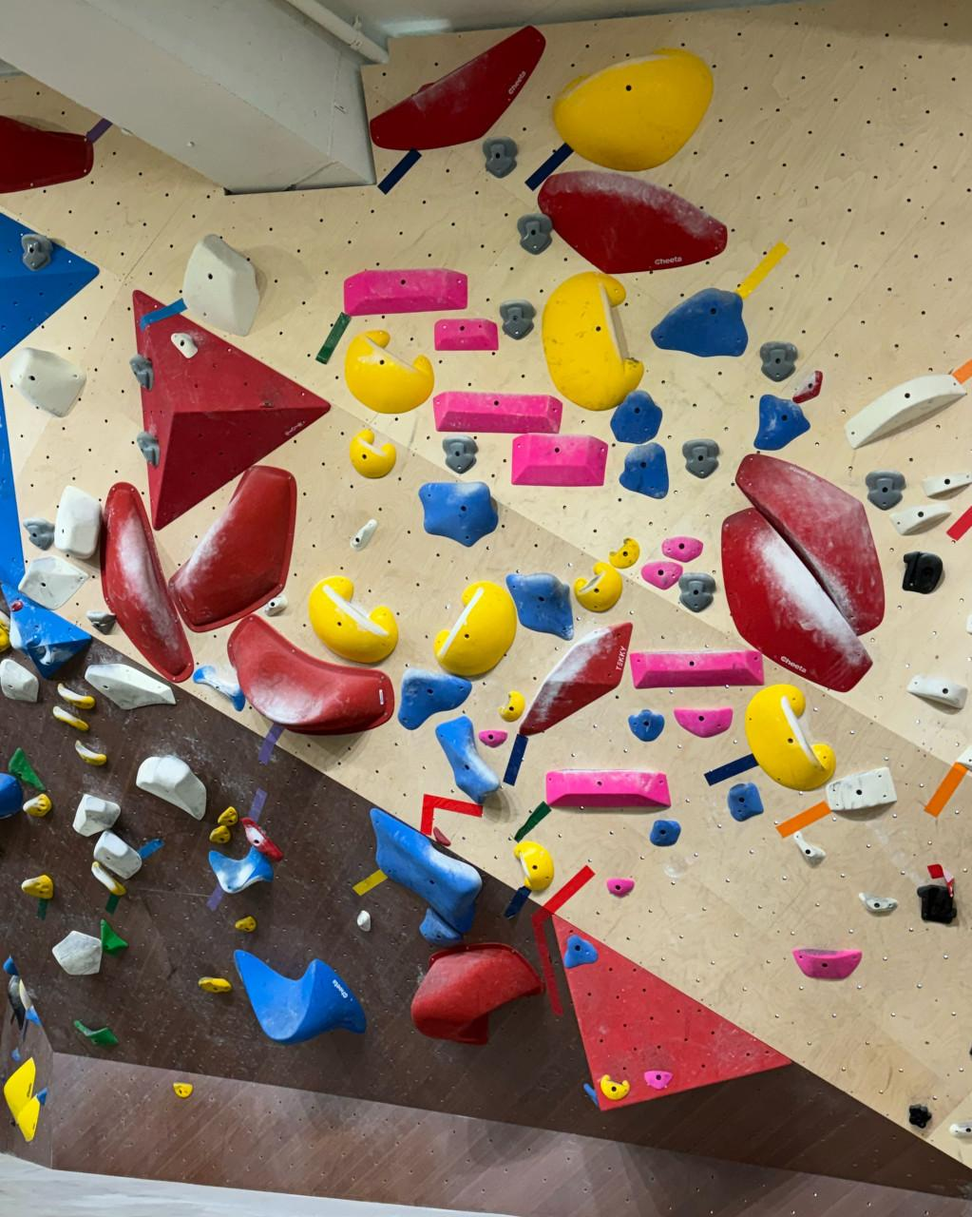hold: (722, 509, 871, 690), (737, 455, 883, 633), (371, 26, 544, 150), (169, 465, 296, 631), (553, 48, 713, 171), (538, 170, 727, 273), (229, 616, 393, 732), (101, 482, 192, 680), (370, 808, 483, 932), (543, 272, 643, 410), (411, 943, 543, 1044), (520, 623, 632, 735), (234, 950, 365, 1043), (746, 686, 835, 790), (846, 375, 965, 448), (434, 582, 517, 677), (182, 235, 259, 336), (309, 577, 397, 664), (344, 330, 433, 412), (652, 288, 748, 357), (436, 716, 503, 802), (343, 270, 467, 316), (433, 392, 562, 434), (631, 649, 763, 688), (10, 348, 85, 416), (420, 482, 497, 547), (512, 435, 607, 486), (397, 668, 471, 729), (545, 770, 670, 806), (506, 573, 573, 640), (137, 756, 204, 820), (86, 664, 175, 709), (19, 555, 88, 609), (53, 485, 101, 560), (827, 766, 896, 812), (4, 1057, 41, 1141), (753, 395, 810, 449), (209, 846, 272, 891), (619, 442, 668, 498), (611, 390, 662, 443), (574, 562, 622, 611), (194, 665, 245, 711), (94, 832, 141, 879), (52, 931, 102, 975), (350, 430, 395, 477), (792, 948, 861, 978), (908, 675, 965, 710), (515, 840, 554, 891), (890, 502, 950, 535), (73, 794, 120, 836), (436, 319, 498, 350), (902, 551, 943, 593), (675, 707, 731, 737), (0, 658, 38, 702), (242, 818, 281, 860), (420, 908, 463, 946), (9, 748, 44, 792), (866, 471, 905, 510), (917, 884, 956, 922), (761, 341, 797, 382), (499, 300, 535, 339), (683, 439, 719, 478), (679, 573, 715, 612), (482, 138, 517, 178), (517, 214, 551, 254), (728, 783, 763, 821), (923, 472, 971, 497), (641, 560, 682, 589), (21, 234, 54, 270), (74, 1020, 117, 1047), (93, 860, 125, 896), (629, 709, 663, 741), (793, 832, 825, 865), (0, 772, 22, 820), (566, 935, 597, 968), (792, 371, 822, 403), (23, 519, 53, 550), (662, 538, 702, 561), (609, 539, 639, 569), (101, 919, 126, 955), (58, 684, 93, 709), (53, 706, 88, 731), (136, 431, 160, 466), (130, 354, 153, 390), (257, 591, 287, 617), (859, 894, 897, 914), (600, 1074, 629, 1100), (499, 692, 524, 722), (75, 741, 105, 766), (21, 875, 53, 898), (350, 520, 375, 549), (171, 333, 198, 358), (23, 795, 51, 818), (87, 611, 115, 634), (653, 820, 680, 843), (909, 1104, 931, 1128), (479, 729, 507, 747), (606, 879, 634, 897), (644, 1071, 672, 1089), (0, 611, 10, 655), (199, 977, 230, 991), (218, 806, 238, 826), (210, 825, 230, 844), (431, 825, 449, 845), (949, 1120, 971, 1136), (958, 745, 971, 771), (584, 1083, 598, 1107), (26, 1004, 40, 1026), (236, 917, 256, 932), (4, 956, 19, 976), (173, 1083, 191, 1098), (357, 910, 369, 930), (37, 1088, 47, 1107), (10, 599, 24, 610), (11, 1047, 19, 1061)
volume: (133, 291, 330, 529), (554, 917, 792, 1110), (0, 210, 100, 359), (0, 585, 90, 676), (0, 375, 24, 592)
